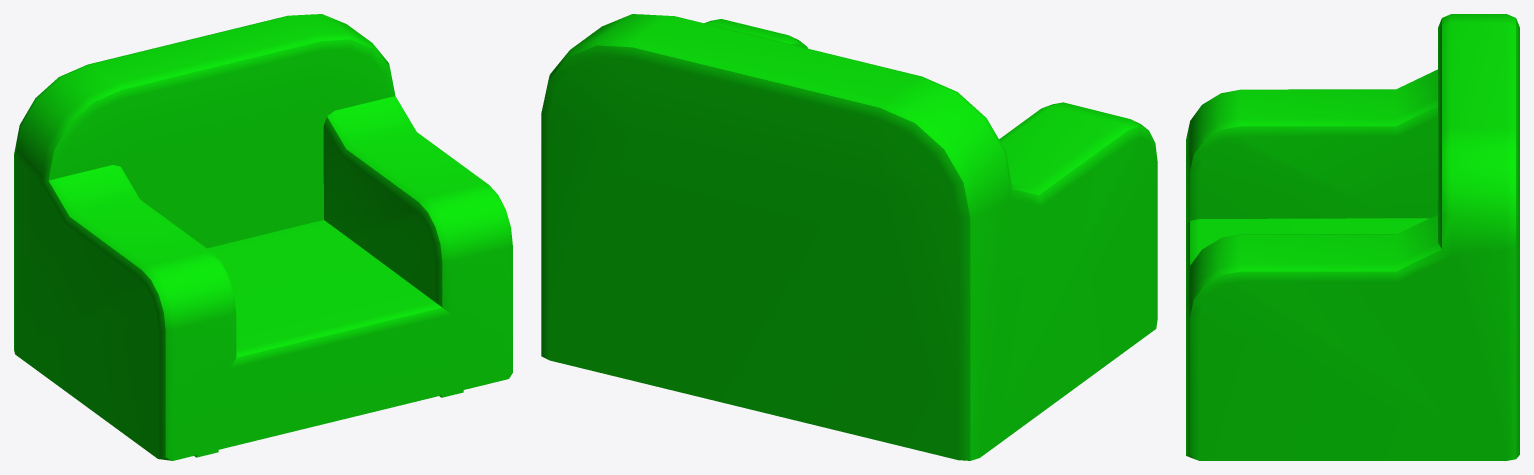
File: Sillon01B.fbx
3 views of the same model, side by side, from view 1: azimuth 30°, elevation 25°; view 2: azimuth 150°, elevation 25°; view 3: azimuth 270°, elevation 25° (orthographic). The views are drawn at different scales.
Parts seen in each view (by area): view 1: polySurface10; view 2: polySurface10; view 3: polySurface10.
Boxes of the visible parts, x1,y1,x2,y2 form: polySurface10: [14, 14, 512, 460]; polySurface10: [541, 14, 1157, 460]; polySurface10: [1186, 14, 1519, 460].
Size of the model in its own units: 1.47 by 1.15 by 1.12.
